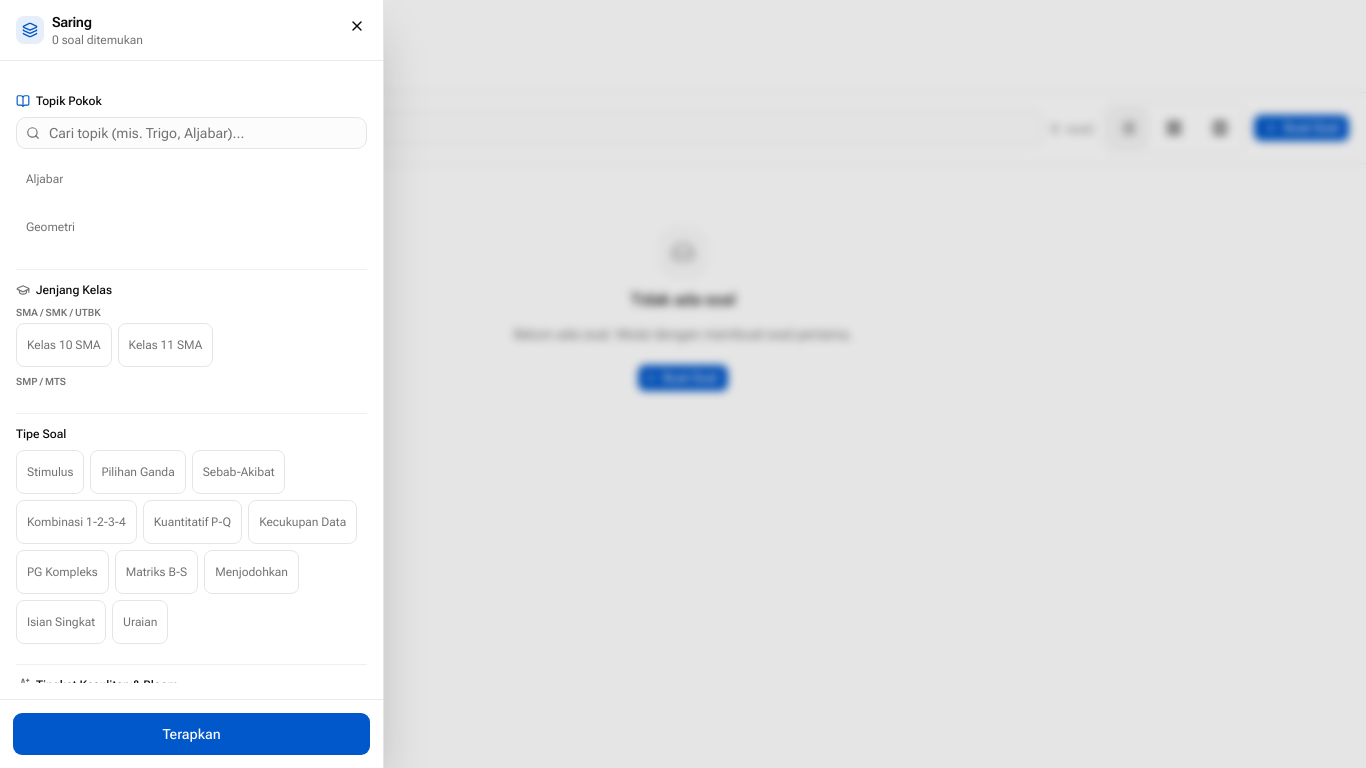
it: QuestionBankView — pencarian & filter (URL = sumber kebenaran) › pemilih topik punya pencarian mikro (filter daftar topik)
Type "geo" into the field labelled "Cari topik". click: (192, 133)
box: [16, 117, 367, 149]
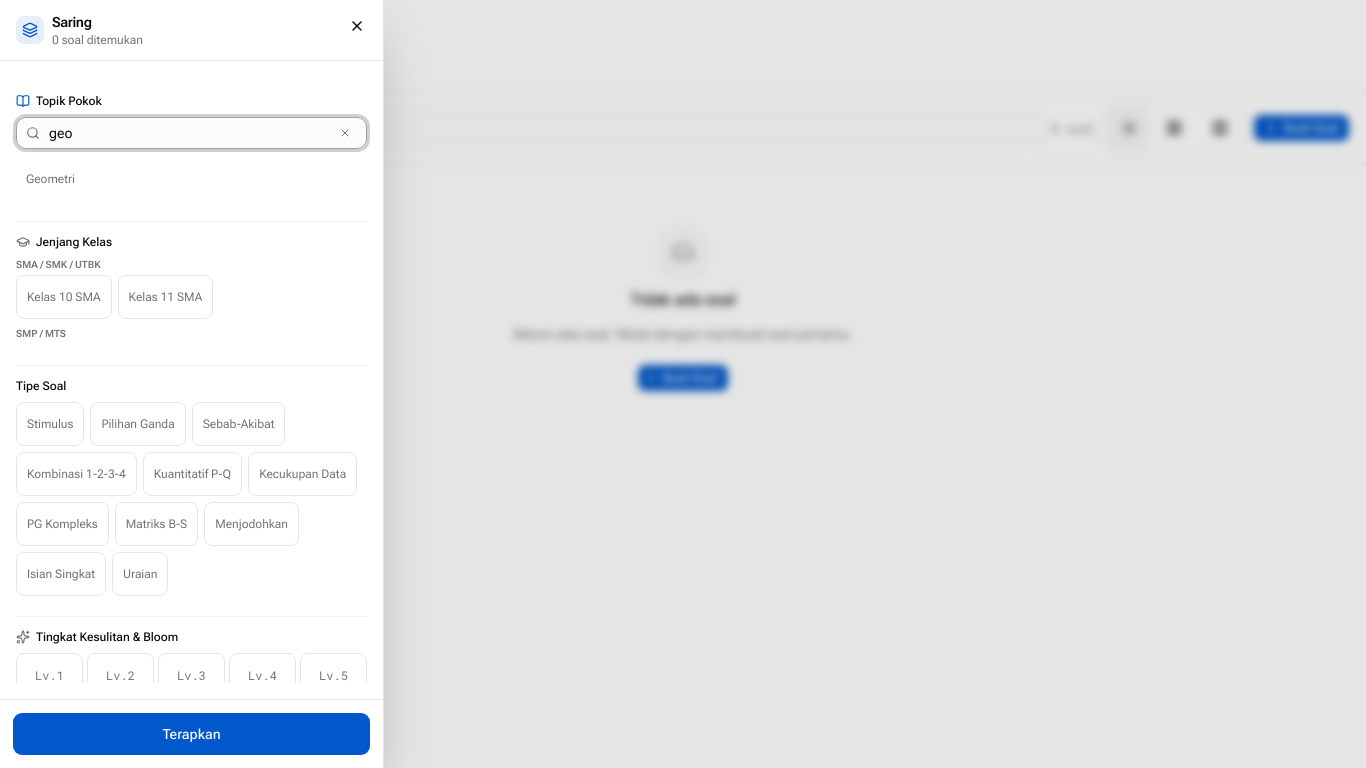
expect the text "Geometri" is shown: met, box [26, 171, 75, 187]
expect the button "Aljabar" is gone: met
